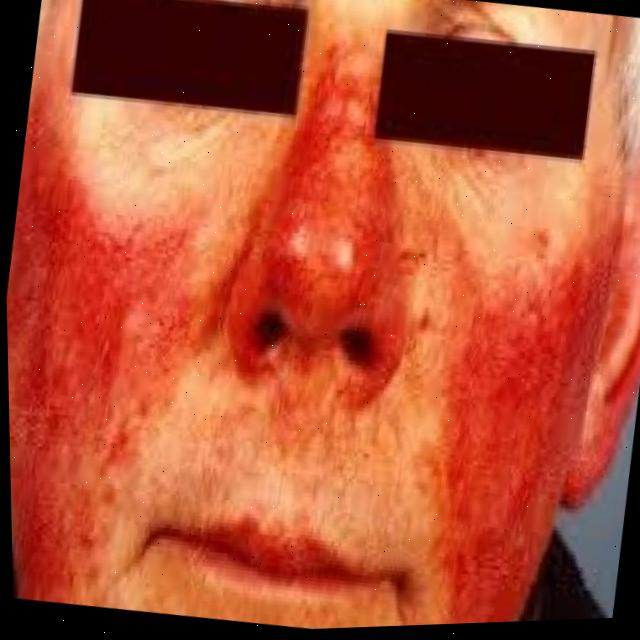Rosacea: (2, 101, 216, 617), (398, 205, 627, 625), (205, 69, 434, 401)
